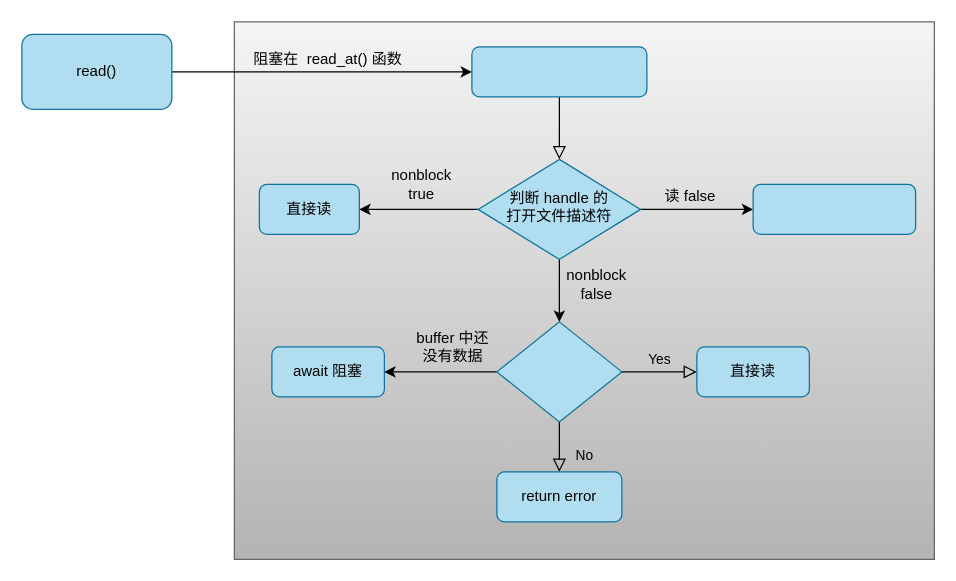
The diagram is 956 pixels wide and 581 high, and some of its shapes have lost their labels. The centre of each missing label's shape, as x and y in pixels:
"read_at(self,offset,buf)" goes at (559,71).
"return 无效参数 error" goes at (834,208).
"循环 匹配" goes at (559,371).
